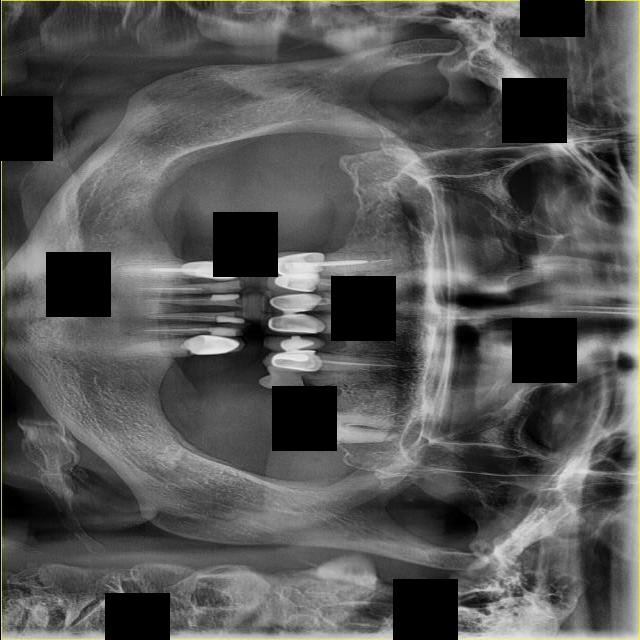71: (285, 257, 367, 270), (316, 296, 370, 305), (316, 278, 373, 286), (149, 267, 206, 275), (369, 257, 391, 264)
74: (321, 359, 396, 370), (144, 329, 209, 334), (139, 286, 204, 291), (146, 298, 207, 303), (158, 317, 214, 319), (368, 301, 395, 304), (370, 282, 389, 286), (123, 269, 147, 272)
NucleOSS Implant: (272, 406, 315, 445)
Sterngold Implant: (297, 371, 319, 394), (303, 371, 323, 375), (201, 290, 213, 294), (199, 331, 210, 335), (186, 351, 192, 357)
Straumann Implant: (207, 325, 241, 339), (215, 314, 244, 324), (209, 294, 237, 302)
Zimmer Implant: (179, 330, 243, 358), (265, 250, 324, 277), (259, 289, 322, 312), (179, 259, 243, 281), (259, 313, 323, 333), (263, 350, 323, 371), (257, 365, 305, 390), (265, 270, 320, 291), (263, 336, 323, 351)
